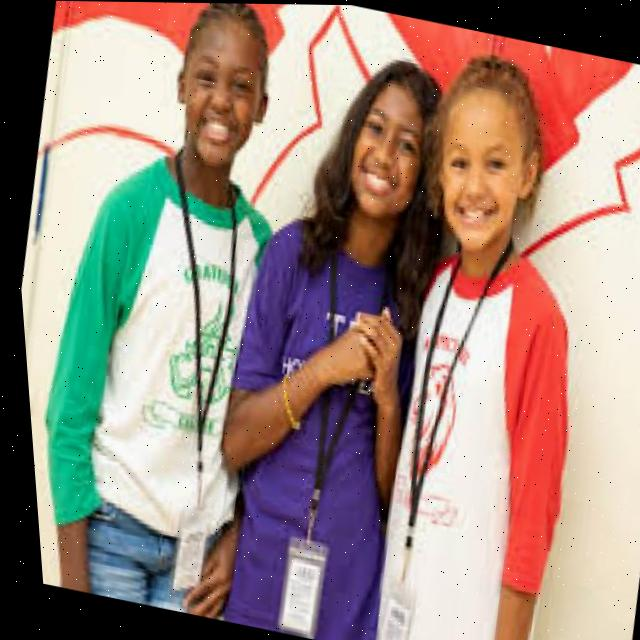id_card: (90, 151, 280, 598), (247, 242, 394, 638), (350, 255, 488, 640)
